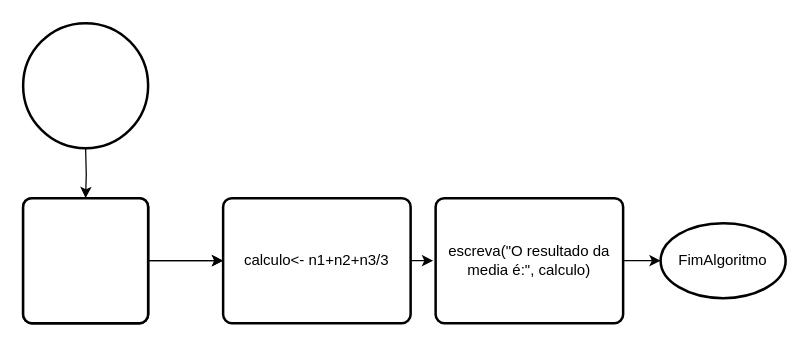
The diagram is 808 pixels wide and 348 high, and some of its shapes have lost their labels. Here are the shapes that lost their labels. From the top down, the centre of each, then its label:
At point (85, 85): "Início".
At point (85, 260): "var n1,n2,n3, calculo:real".
